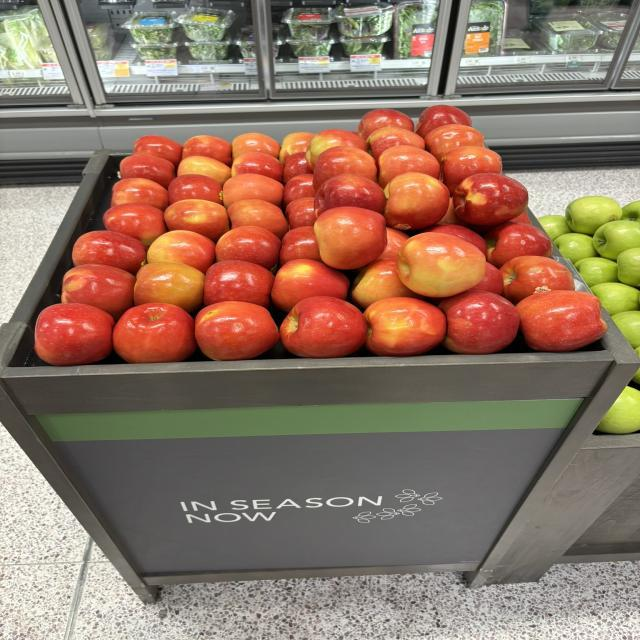Apple -Green-: (0, 0, 35, 11)
